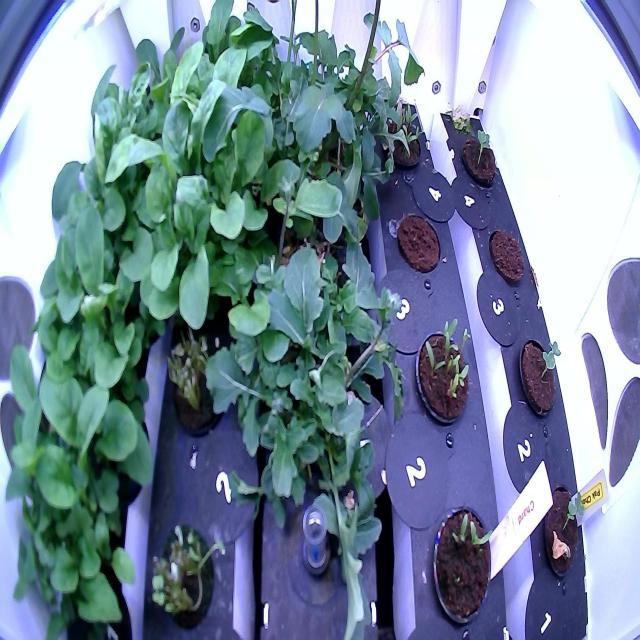germination: (427, 498, 501, 634), (410, 312, 477, 437), (532, 472, 592, 591), (509, 330, 568, 422), (372, 96, 425, 183), (454, 120, 501, 194)
pod: (392, 202, 444, 284), (484, 220, 532, 292)
